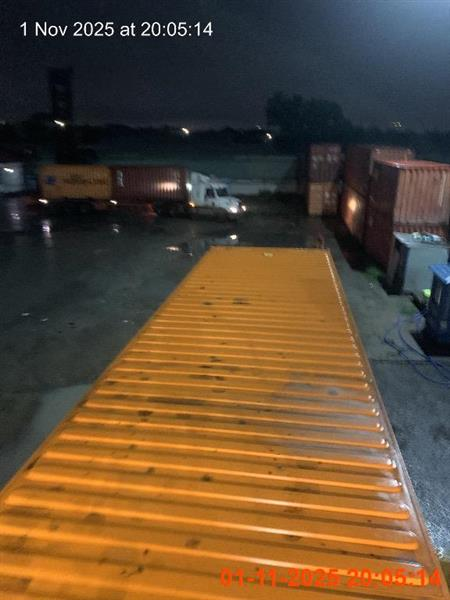broken: (0, 242, 449, 599), (14, 163, 245, 220)
